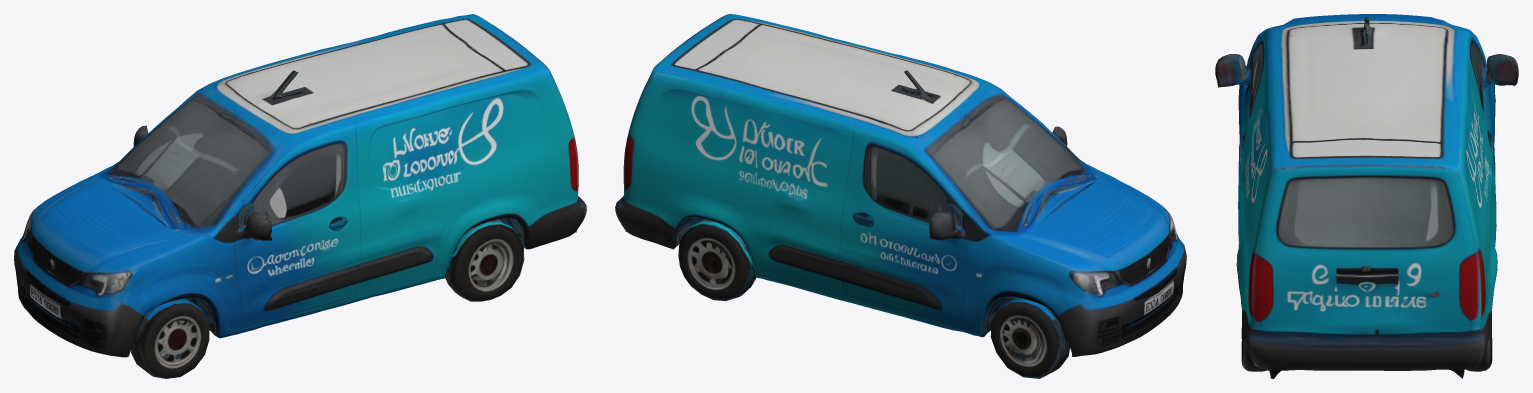
File: Irish_Water_Van_1128153328_texture.glb
3 renders of one model, left to right at view 1: azimuth 30°, elevation 25°; view 2: azimuth 150°, elevation 25°; view 3: azimuth 270°, elevation 25°, orthographic. The views are drawn at different scales.
Visible parts, largest first — view 1: Mesh0; view 2: Mesh0; view 3: Mesh0.
Boxes of the visible parts, left/top/right/bottom form: Mesh0: left=14, top=14, right=586, bottom=378; Mesh0: left=615, top=14, right=1186, bottom=378; Mesh0: left=1215, top=14, right=1518, bottom=378.
Bounding box in the file's own units: 2 × 0.8701 × 0.8877.
1 material, 1 textured.
